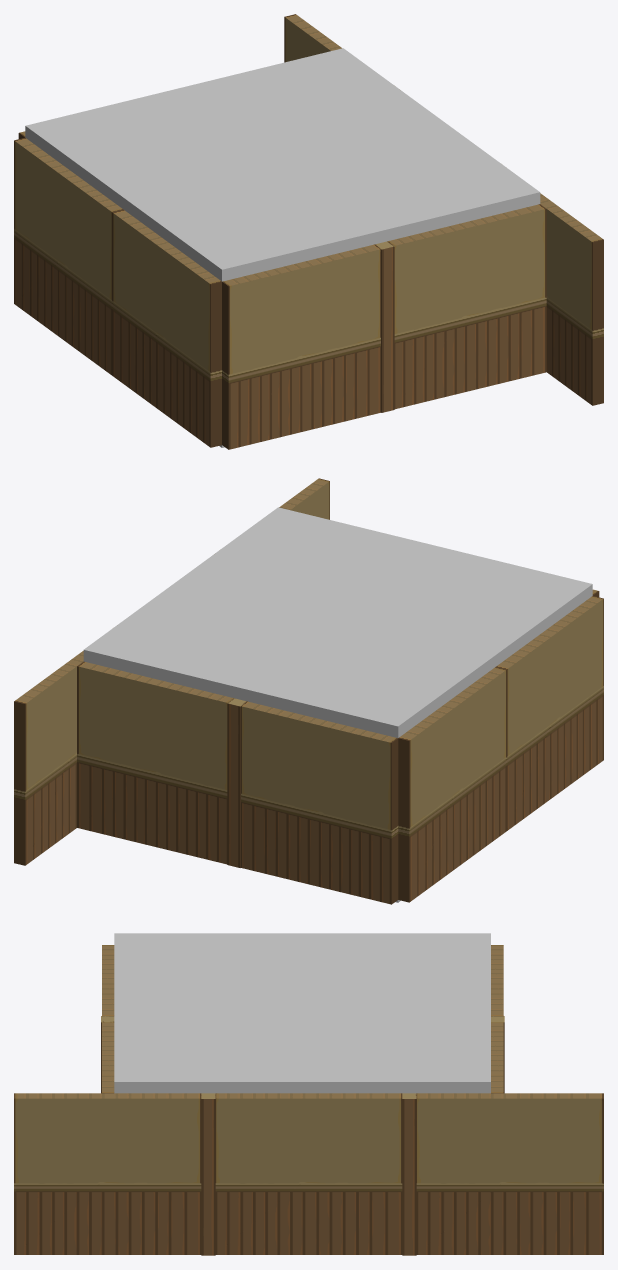
The model's file is canteen-newRoom.fbx.
The picture shows the model from 3 angles, top to bottom: view 1: azimuth 30°, elevation 25°; view 2: azimuth 150°, elevation 25°; view 3: azimuth 270°, elevation 25°; orthographic projection. The views are drawn at different scales.
Parts seen in each view (by area): view 1: pCube20, pCube12, pCube28, pCube24, pCube22, pCube26, pCube23, pCube33; view 2: pCube20, pCube25, pCube30, pCube22, pCube24, pCube33, pCube29, pCube26; view 3: pCube20, pCube33, pCube27, pCube26, pCube35, pCube34, pCube28, pCube25, pCube30, pCube12.
Part boxes in pixels (left/top/right/bottom): pCube20: left=25, top=48, right=540, bottom=281; pCube12: left=222, top=244, right=380, bottom=449; pCube28: left=387, top=204, right=546, bottom=409; pCube24: left=112, top=209, right=221, bottom=447; pCube22: left=14, top=137, right=123, bottom=375; pCube26: left=540, top=193, right=603, bottom=405; pCube23: left=375, top=241, right=394, bottom=412; pCube33: left=284, top=14, right=341, bottom=62; pCube20: left=83, top=507, right=592, bottom=737; pCube25: left=241, top=701, right=398, bottom=904; pCube30: left=77, top=661, right=234, bottom=864; pCube22: left=398, top=667, right=506, bottom=902; pCube24: left=496, top=596, right=603, bottom=830; pCube33: left=14, top=651, right=83, bottom=865; pCube29: left=227, top=698, right=246, bottom=867; pCube26: left=279, top=478, right=329, bottom=519; pCube20: left=114, top=933, right=490, bottom=1093; pCube33: left=416, top=1093, right=603, bottom=1254; pCube27: left=215, top=1093, right=402, bottom=1254; pCube26: left=14, top=1093, right=201, bottom=1254; pCube35: left=402, top=1093, right=416, bottom=1255; pCube34: left=201, top=1093, right=215, bottom=1255; pCube28: left=102, top=1021, right=114, bottom=1093; pCube25: left=491, top=945, right=503, bottom=1016; pCube30: left=491, top=1022, right=503, bottom=1093; pCube12: left=102, top=945, right=114, bottom=1016.
Size of the model in its own units: 60.15 by 30 by 94.
